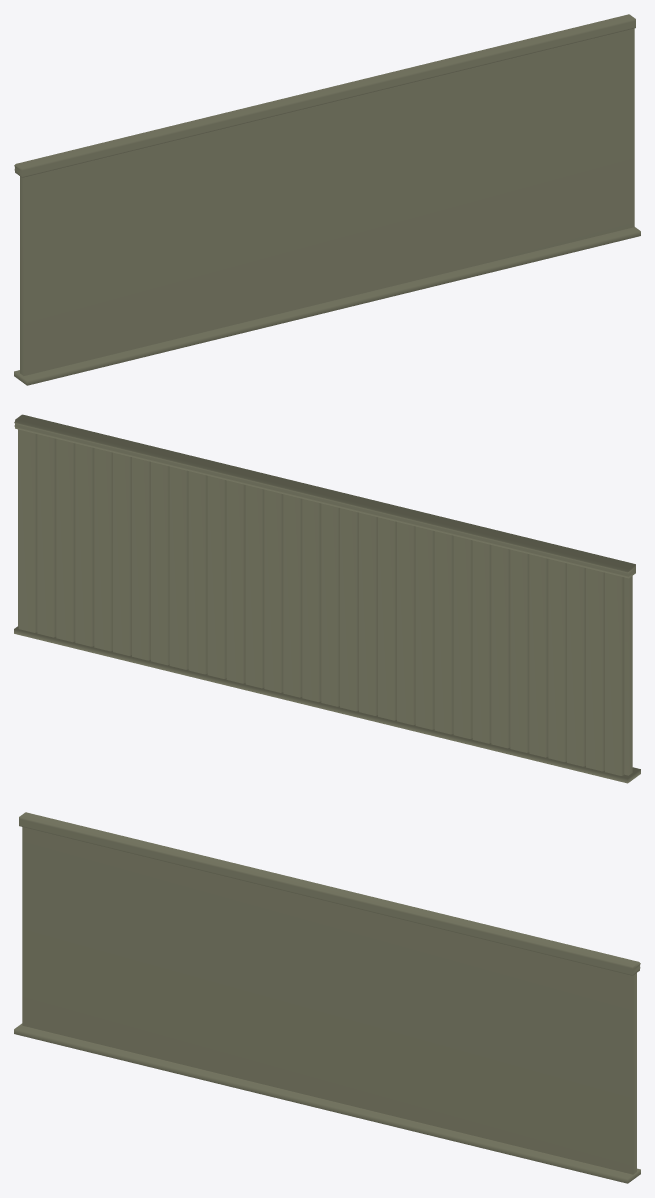
Rendered from FP427:FloorPlan426wall_3527d9f3.obj.
3 views of the same model, one above another, from view 1: azimuth 30°, elevation 25°; view 2: azimuth 150°, elevation 25°; view 3: azimuth 330°, elevation 25° (orthographic).
Visible parts, largest first — view 1: FP427:FloorPlan426wall_3527d9f3; view 2: FP427:FloorPlan426wall_3527d9f3; view 3: FP427:FloorPlan426wall_3527d9f3.
Part boxes in pixels (left/top/right/bottom): FP427:FloorPlan426wall_3527d9f3: left=14, top=14, right=640, bottom=385; FP427:FloorPlan426wall_3527d9f3: left=14, top=414, right=640, bottom=783; FP427:FloorPlan426wall_3527d9f3: left=14, top=812, right=640, bottom=1183.
Size of the model in its own units: 2.91 by 0.9661 by 0.1082.
